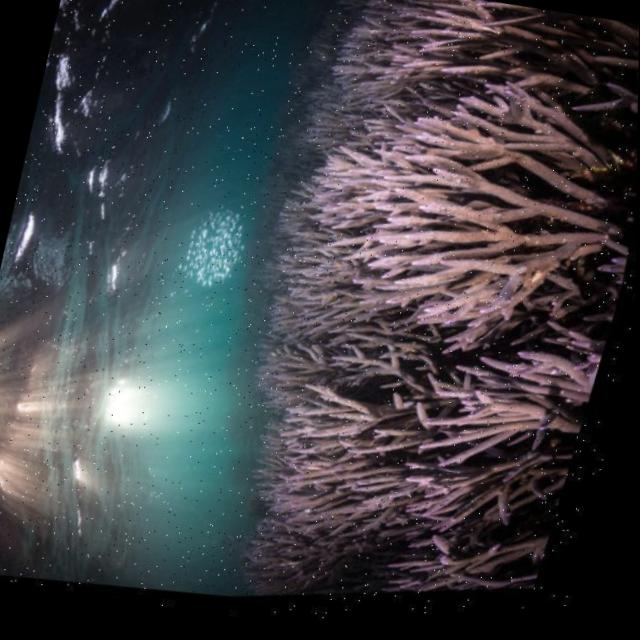Healthy Coral: (217, 0, 640, 624)
